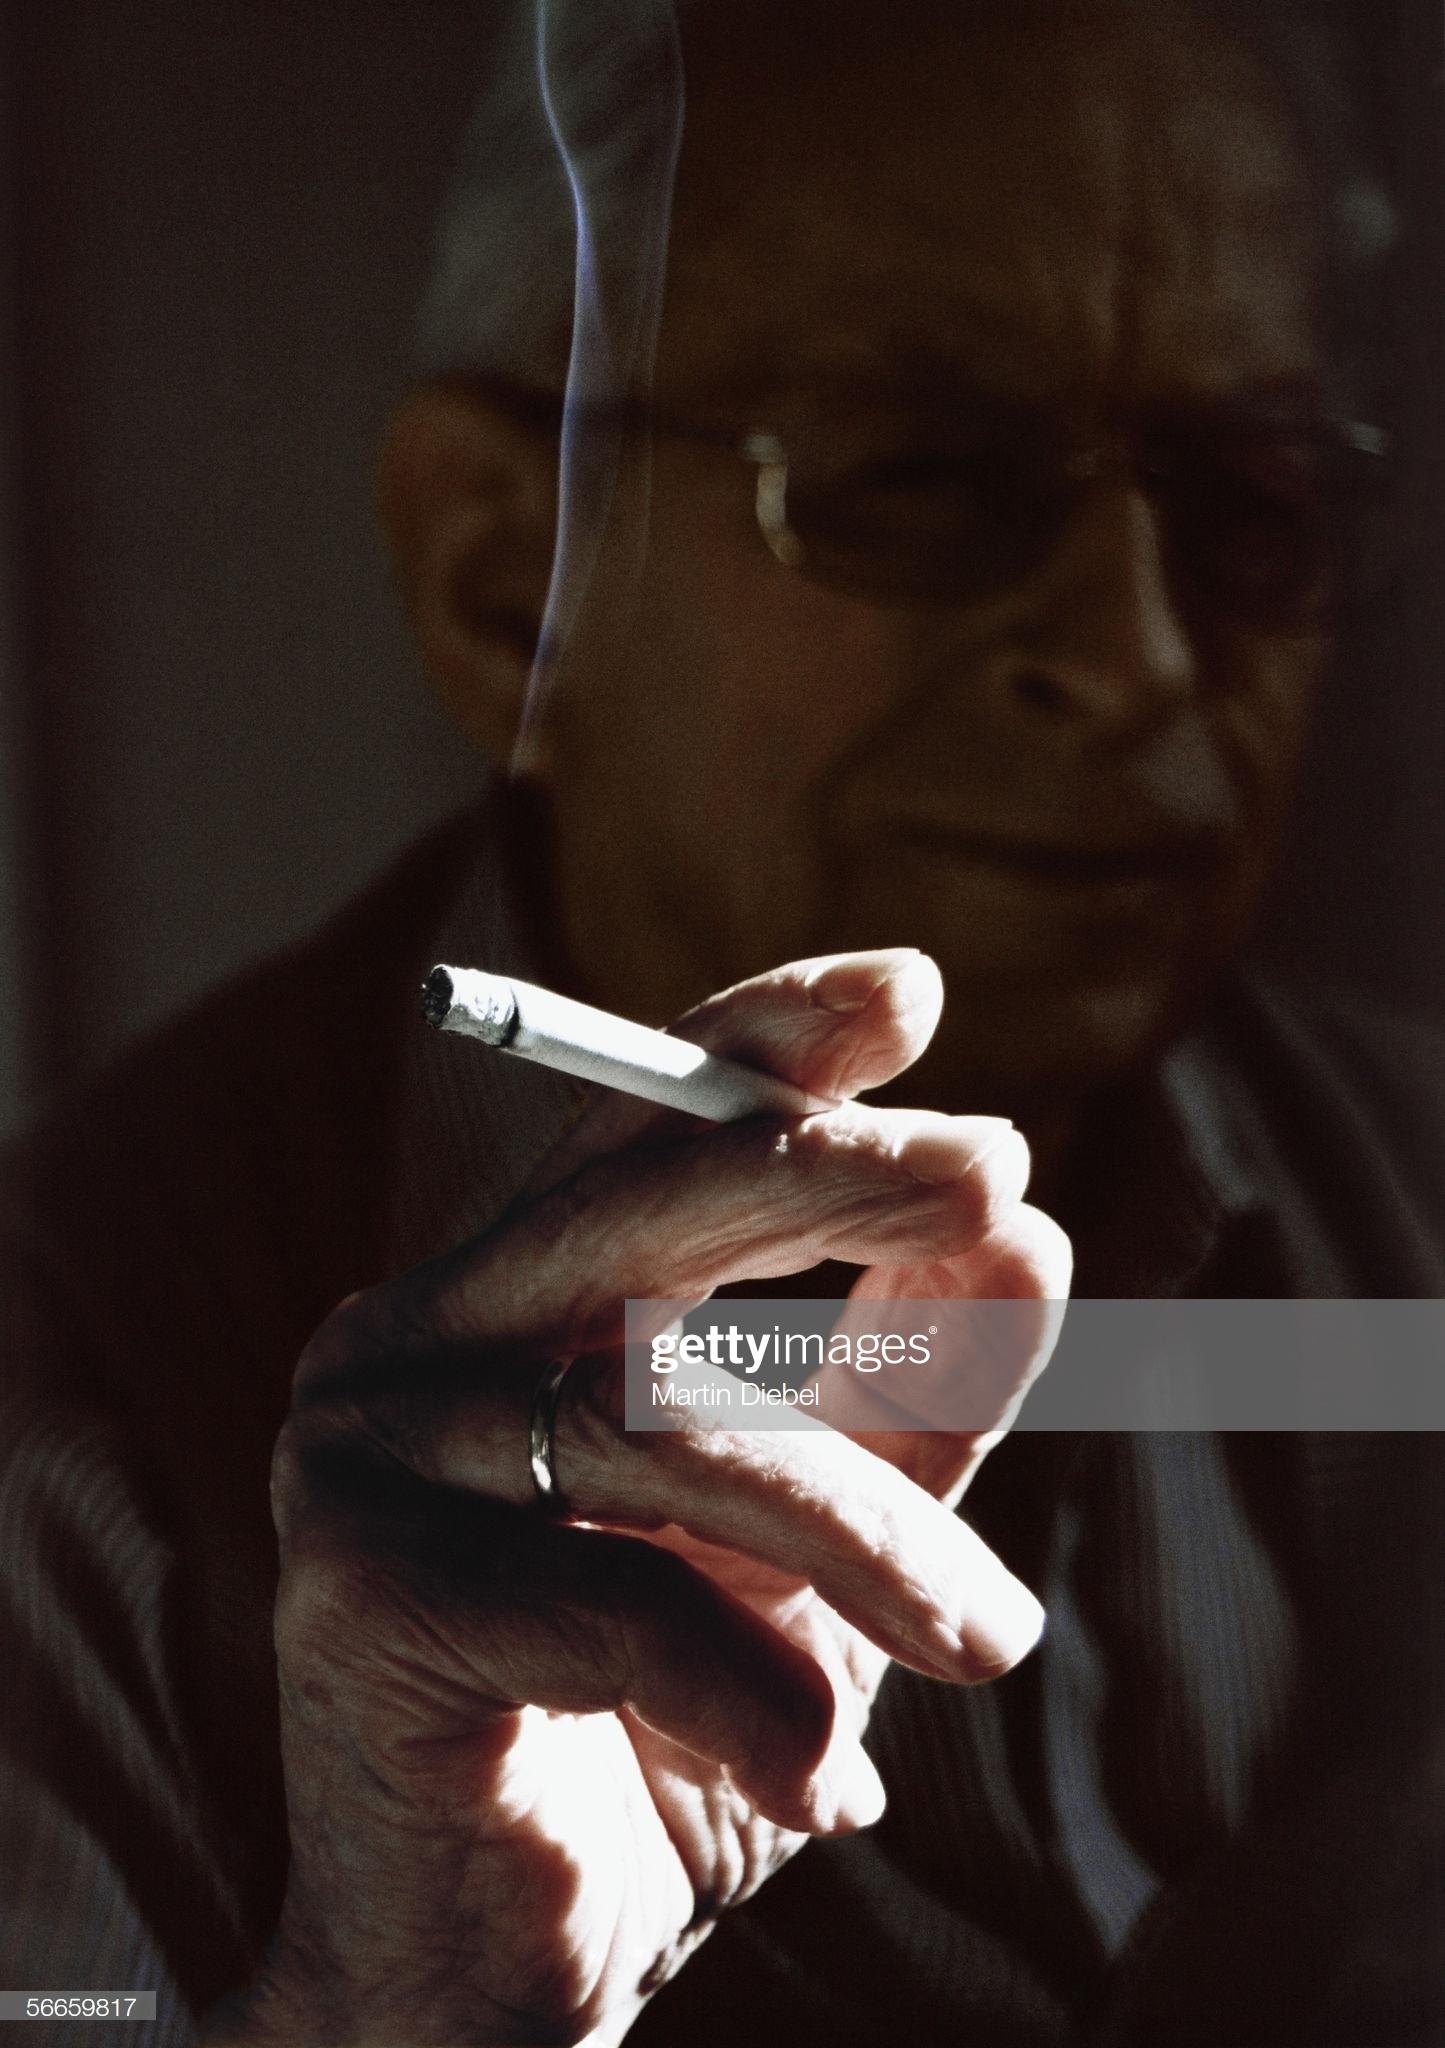sigaretta: (436, 965, 962, 1183)
